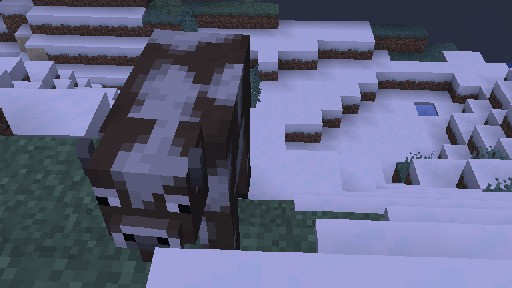cow: (74, 28, 251, 277)
